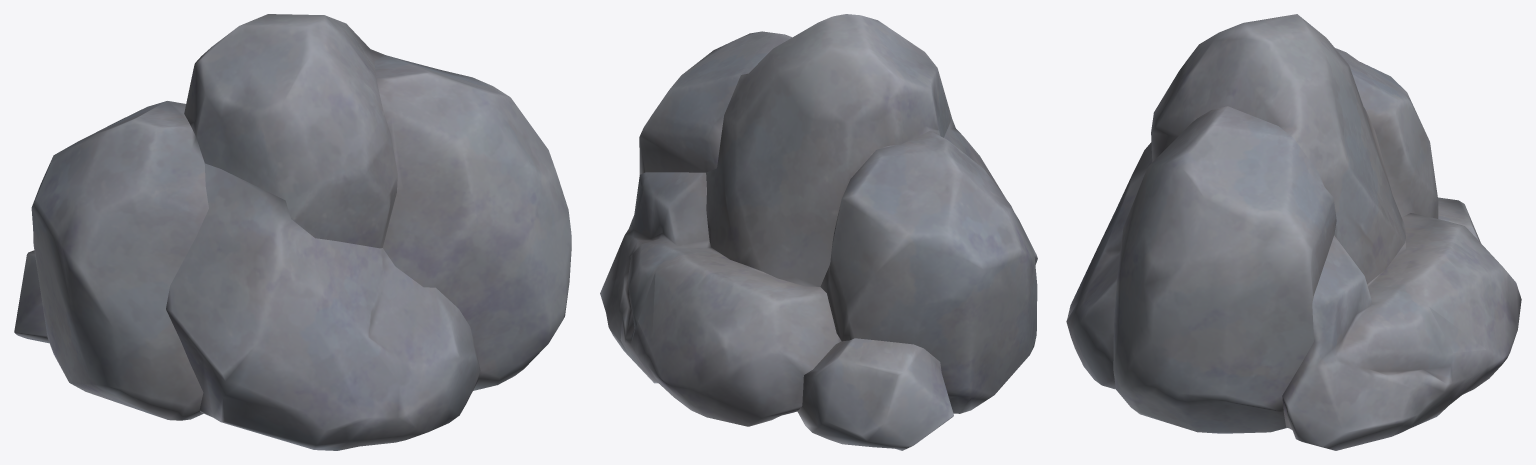
File: cliff3.glb
3 renders of one model, left to right at view 1: azimuth 30°, elevation 25°; view 2: azimuth 150°, elevation 25°; view 3: azimuth 270°, elevation 25°, orthographic. The views are drawn at different scales.
Parts seen in each view (by area): view 1: SM_RockPack_RockGroups_02_B_M_RockPack_RockGroups_02_0; view 2: SM_RockPack_RockGroups_02_B_M_RockPack_RockGroups_02_0; view 3: SM_RockPack_RockGroups_02_B_M_RockPack_RockGroups_02_0.
Boxes of the visible parts, x1,y1,x2,y2 form: SM_RockPack_RockGroups_02_B_M_RockPack_RockGroups_02_0: [14, 14, 571, 450]; SM_RockPack_RockGroups_02_B_M_RockPack_RockGroups_02_0: [600, 14, 1037, 450]; SM_RockPack_RockGroups_02_B_M_RockPack_RockGroups_02_0: [1066, 14, 1521, 450].
Bounding box in the file's own units: 5.21 × 4.03 × 4.87.
1 material, 1 textured.
